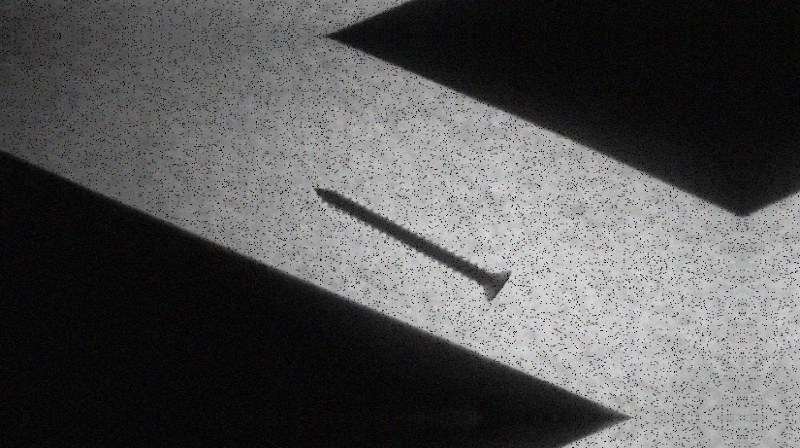S002: (310, 184, 515, 303)
